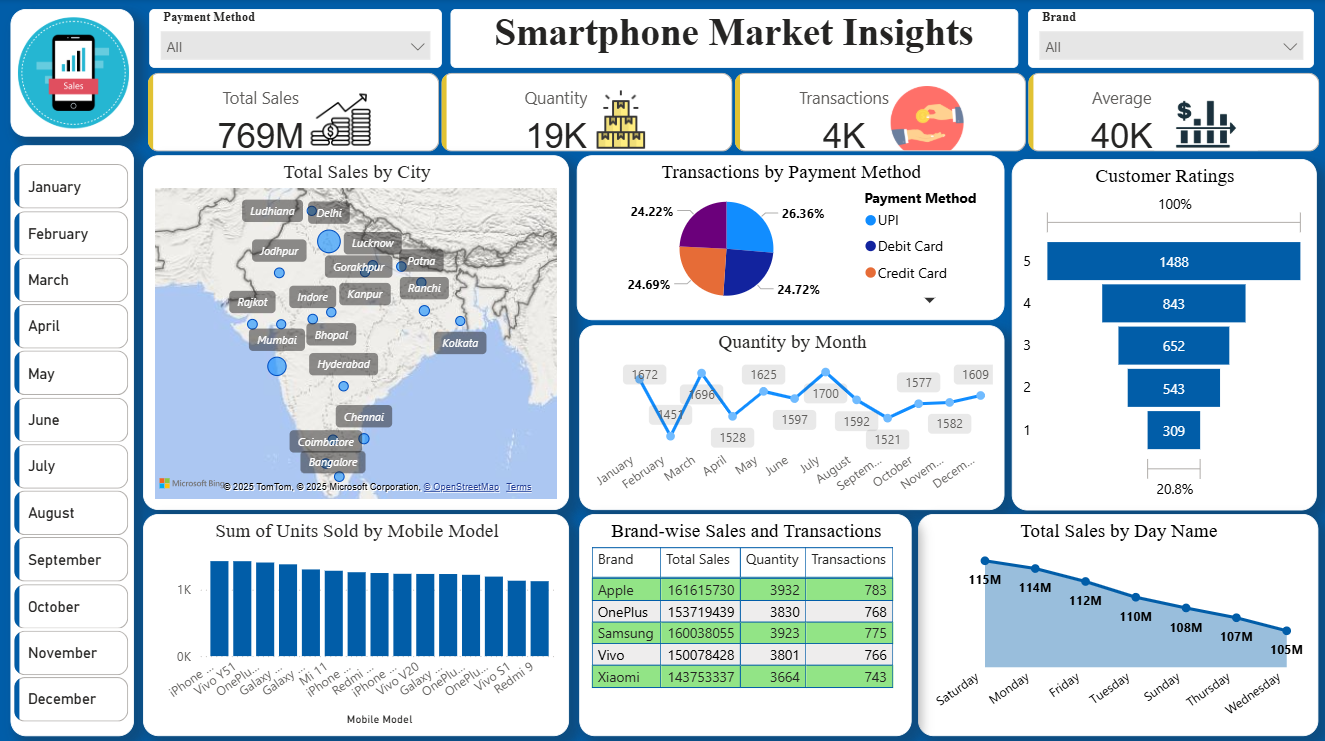

The dashboard page shown, as its layout file describes it:
{"tool":"powerbi","page":{"name":"Page 1","canvas":[1280,720],"ordinal":0},"visuals":[{"type":"shape","box":[12.1,9.7,119.4,123.1],"z":0},{"type":"image","box":[14.5,9.7,117,123.1],"z":1000},{"type":"shape","box":[12.1,141.2,119.4,570.6],"z":2000},{"type":"advancedSlicerVisual","fields":{"Values":["Sales_Data.Date.Variation.Date Hierarchy.Month"]},"box":[10.9,154.4,120.6,557.4],"z":3000},{"type":"cardVisual","fields":{"Data":["Sales_Data.Total Sales","Sales_Data.Total Quantity","Sales_Data.Transactions","Sales_Data.Average"]},"box":[139.9,71.2,1140.1,76],"z":4000},{"type":"map","fields":{"Category":["Sales_Data.City"],"Size":["Sales_Data.Total Sales"]},"box":[139.9,150.8,411.4,342.6],"z":5000},{"type":"lineChart","fields":{"Category":["Sales_Data.Date.Variation.Date Hierarchy.Month","Sales_Data.Date.Variation.Date Hierarchy.Day"],"Y":["Sales_Data.Quantity"]},"box":[561,314.9,410.2,178.6],"z":6000},{"type":"clusteredColumnChart","fields":{"Category":["Sales_Data.Mobile Model"],"Y":["Sum(Sales_Data.Units Sold)"]},"box":[139.9,497.1,411.4,214.7],"z":7000},{"type":"pieChart","fields":{"Category":["Sales_Data.Payment Method"],"Y":["Sales_Data.Transactions"]},"box":[558.6,150.8,412.6,159.3],"z":8000},{"type":"funnel","title":"Customer Ratings ","fields":{"Category":["Sales_Data.Customer Ratings"],"Y":["CountNonNull(Sales_Data.Customer Ratings)"]},"box":[978.4,154.4,294.4,339],"z":9000},{"type":"areaChart","fields":{"Category":["Sales_Data.Day Name"],"Y":["Sales_Data.Total Sales"]},"box":[887.9,497.1,386.1,214.7],"z":10000},{"type":"tableEx","title":"Brand-wise Sales and Transactions","fields":{"Values":["Sales_Data.Brand","Sales_Data.Total Sales","Sales_Data.Quantity","Sales_Data.Transactions"]},"box":[561,497.1,320.9,214.7],"z":11000},{"type":"slicer","fields":{"Values":["Sales_Data.Brand"]},"box":[994.1,9.7,276.3,56.7],"z":12000},{"type":"slicer","fields":{"Values":["Sales_Data.Payment Method"]},"box":[146,9.7,282.3,56.7],"z":13000},{"type":"textbox","box":[436.7,9.7,547.7,56.7],"z":14000}]}

Visuals, with their boxes in screenshot pixels (x1, y1, x2, y2), scaled from the page's 1280x720 canvas onto the 1325x741 screenshot:
shape: pyautogui.locateOnScreen(13, 10, 136, 137)
image: pyautogui.locateOnScreen(15, 10, 136, 137)
shape: pyautogui.locateOnScreen(13, 145, 136, 733)
advancedSlicerVisual - Sales_Data.Date.Variation.Date Hierarchy.Month: pyautogui.locateOnScreen(11, 159, 136, 733)
cardVisual - Sales_Data.Total Sales x Sales_Data.Total Quantity: pyautogui.locateOnScreen(145, 73, 1324, 151)
map - Sales_Data.City x Sales_Data.Total Sales: pyautogui.locateOnScreen(145, 155, 571, 508)
lineChart - Sales_Data.Date.Variation.Date Hierarchy.Month x Sales_Data.Date.Variation.Date Hierarchy.Day: pyautogui.locateOnScreen(581, 324, 1005, 508)
clusteredColumnChart - Sales_Data.Mobile Model x Sum(Sales_Data.Units Sold): pyautogui.locateOnScreen(145, 512, 571, 733)
pieChart - Sales_Data.Payment Method x Sales_Data.Transactions: pyautogui.locateOnScreen(578, 155, 1005, 319)
"Customer Ratings " funnel: pyautogui.locateOnScreen(1013, 159, 1318, 508)
areaChart - Sales_Data.Day Name x Sales_Data.Total Sales: pyautogui.locateOnScreen(919, 512, 1319, 733)
"Brand-wise Sales and Transactions" tableEx: pyautogui.locateOnScreen(581, 512, 913, 733)
slicer - Sales_Data.Brand: pyautogui.locateOnScreen(1029, 10, 1315, 68)
slicer - Sales_Data.Payment Method: pyautogui.locateOnScreen(151, 10, 443, 68)
textbox: pyautogui.locateOnScreen(452, 10, 1019, 68)
